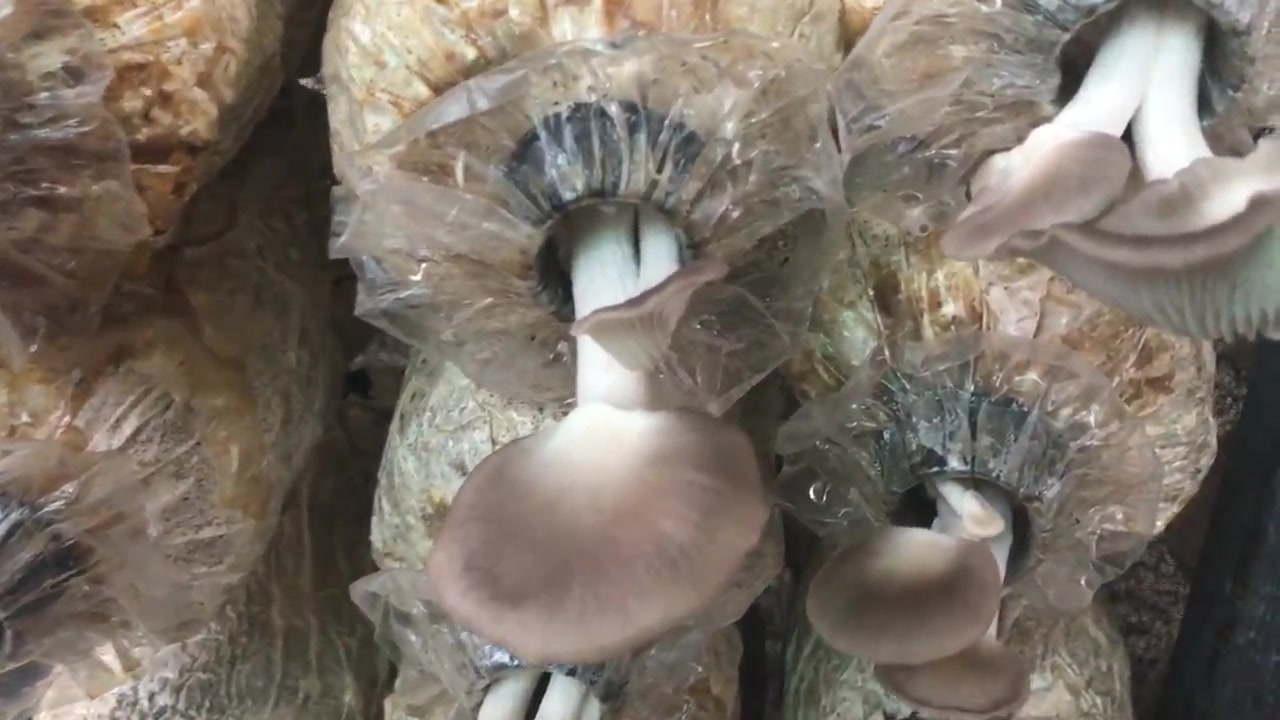nam: (428, 148, 773, 660), (941, 3, 1280, 342), (806, 432, 1066, 720)
